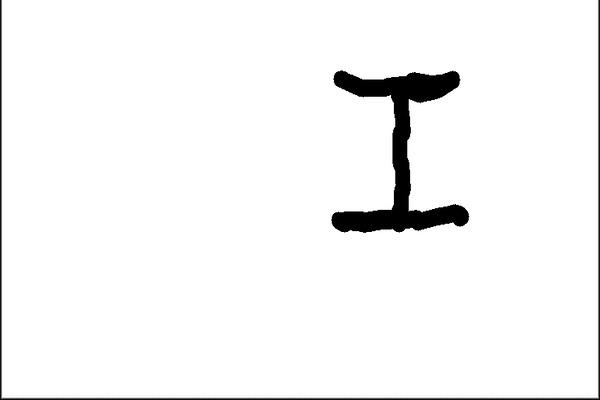i: (323, 61, 474, 241)
